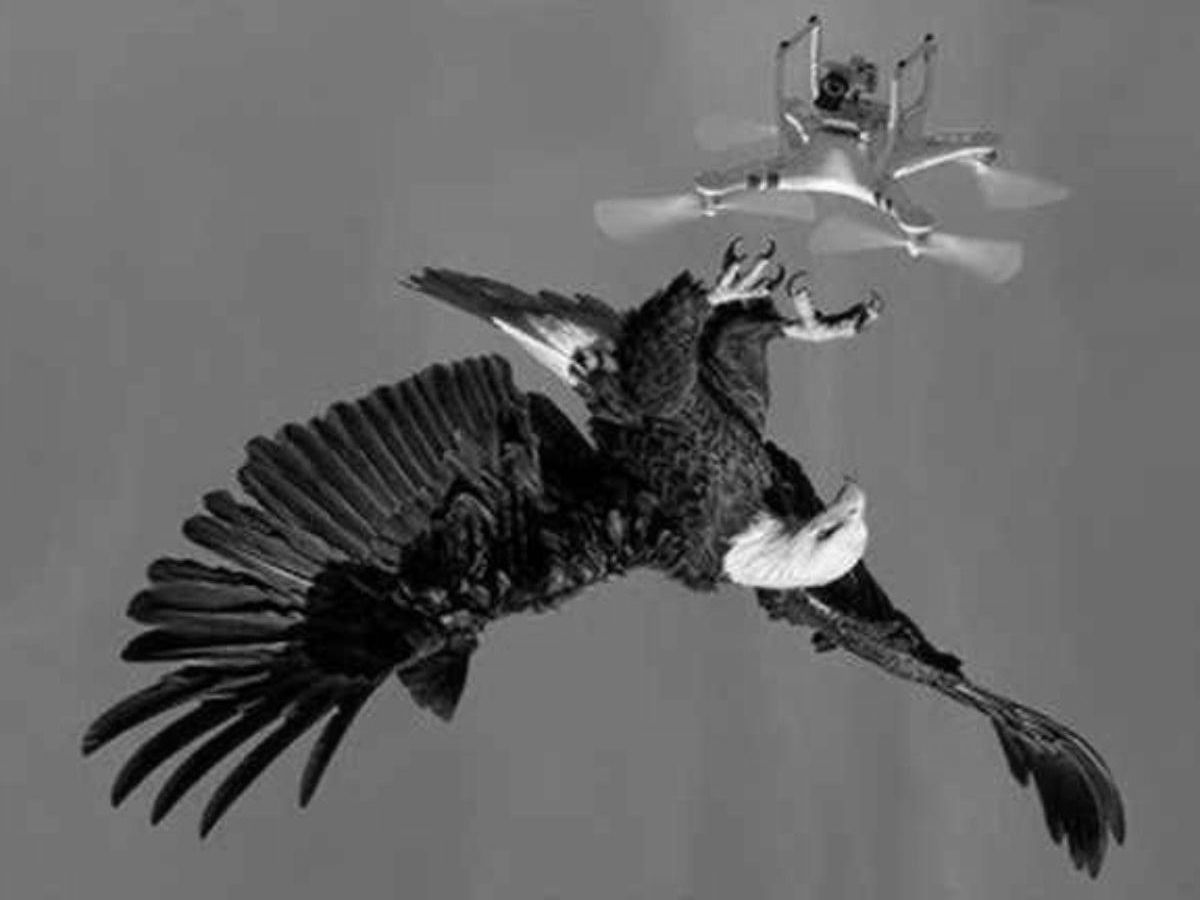Bird: (70, 229, 1131, 889)
Drone: (583, 4, 1077, 293)
